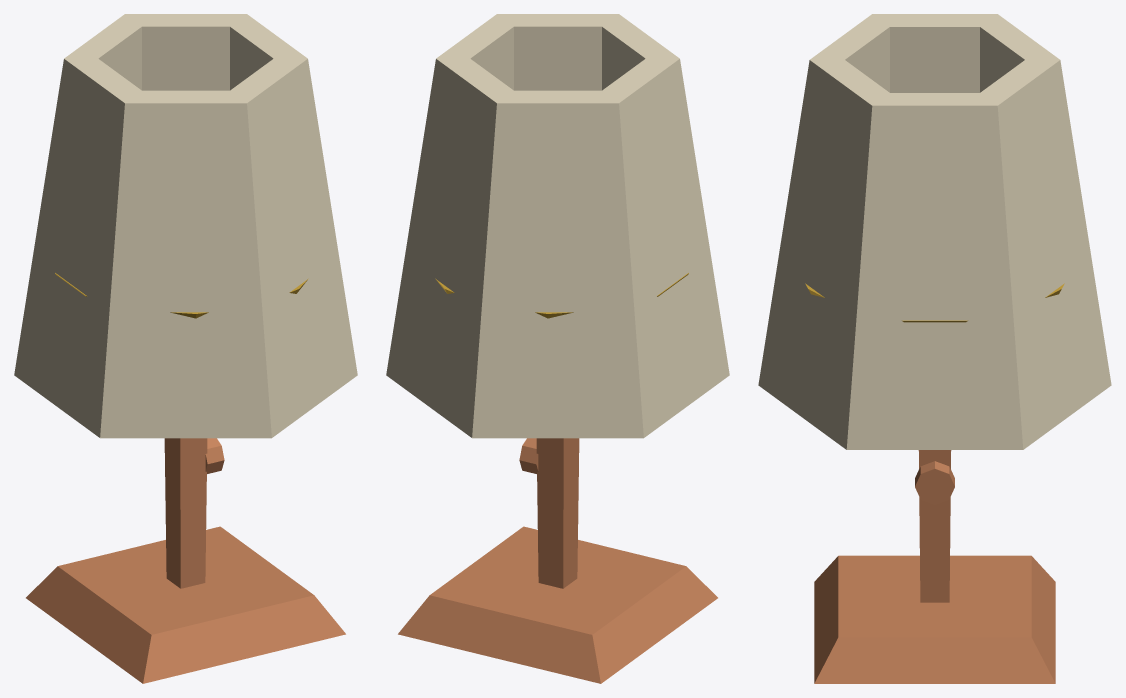
Rendered from lampRoundTable.glb.
The picture shows the model from 3 angles, left to right: view 1: azimuth 30°, elevation 25°; view 2: azimuth 150°, elevation 25°; view 3: azimuth 270°, elevation 25°; orthographic projection. The views are drawn at different scales.
Visible parts, largest first — view 1: lampRoundTable(Clone); view 2: lampRoundTable(Clone); view 3: lampRoundTable(Clone).
Boxes of the visible parts, x1,y1,x2,y2 form: lampRoundTable(Clone): [14, 14, 357, 683]; lampRoundTable(Clone): [386, 14, 729, 683]; lampRoundTable(Clone): [758, 14, 1111, 683].
Bounding box in the file's own units: 0.152 × 0.3142 × 0.1756.
